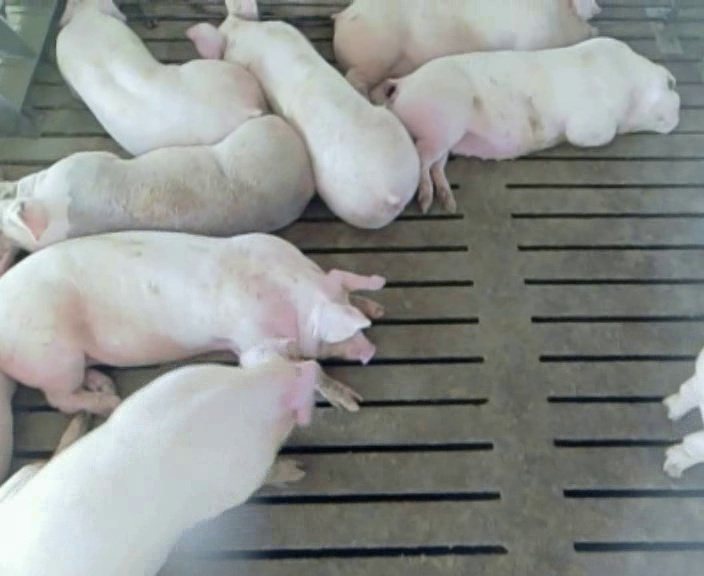pig: (0, 339, 322, 574), (188, 3, 418, 228), (386, 38, 679, 212), (0, 115, 313, 274), (56, 3, 266, 154), (334, 2, 599, 105)
